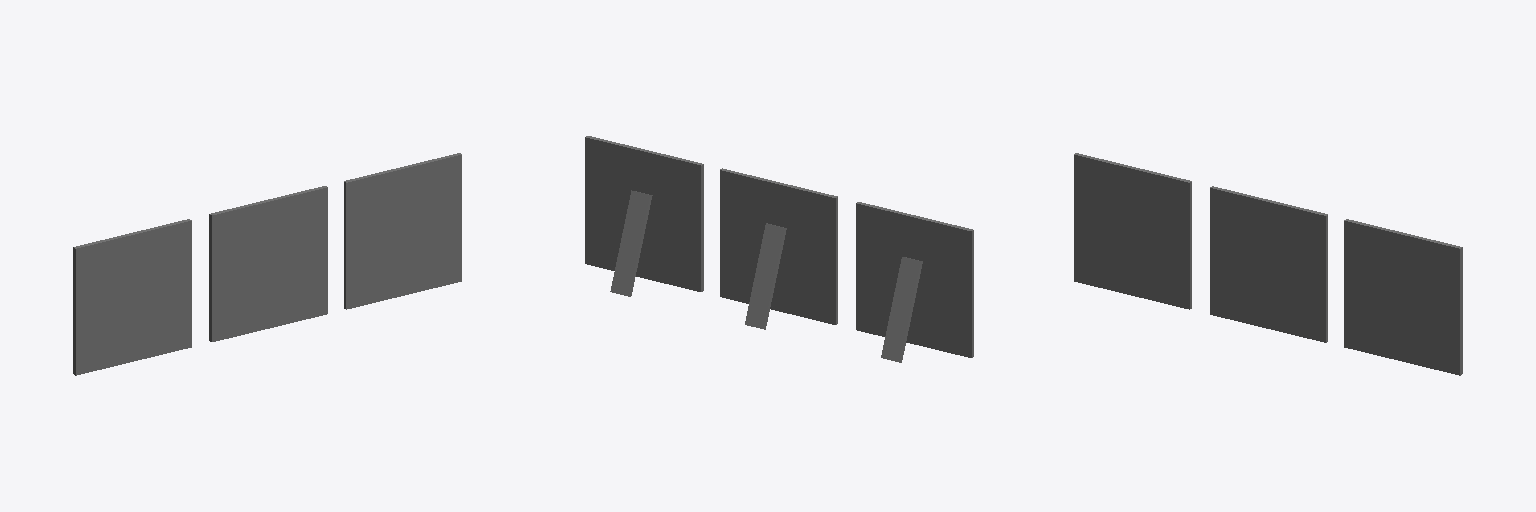
File: PictureFrame.obj
The picture shows the model from 3 angles: view 1: azimuth 30°, elevation 25°; view 2: azimuth 150°, elevation 25°; view 3: azimuth 330°, elevation 25°; orthographic projection.
Parts seen in each view (by area): view 1: pCube5, PictureFrame:pCube5, pCube6; view 2: pCube6, pCube5, PictureFrame:pCube5; view 3: pCube6, pCube5, PictureFrame:pCube5.
Part boxes in pixels (x1,y1,x2,y2): pCube5: (209, 186, 327, 341); PictureFrame:pCube5: (73, 219, 191, 375); pCube6: (344, 153, 461, 309); pCube6: (585, 136, 703, 296); pCube5: (720, 168, 837, 329); PictureFrame:pCube5: (856, 202, 973, 362); pCube6: (1344, 219, 1462, 375); pCube5: (1210, 186, 1327, 342); PictureFrame:pCube5: (1074, 153, 1191, 309).
Size of the model in its own units: 22.91 by 7.22 by 2.67.